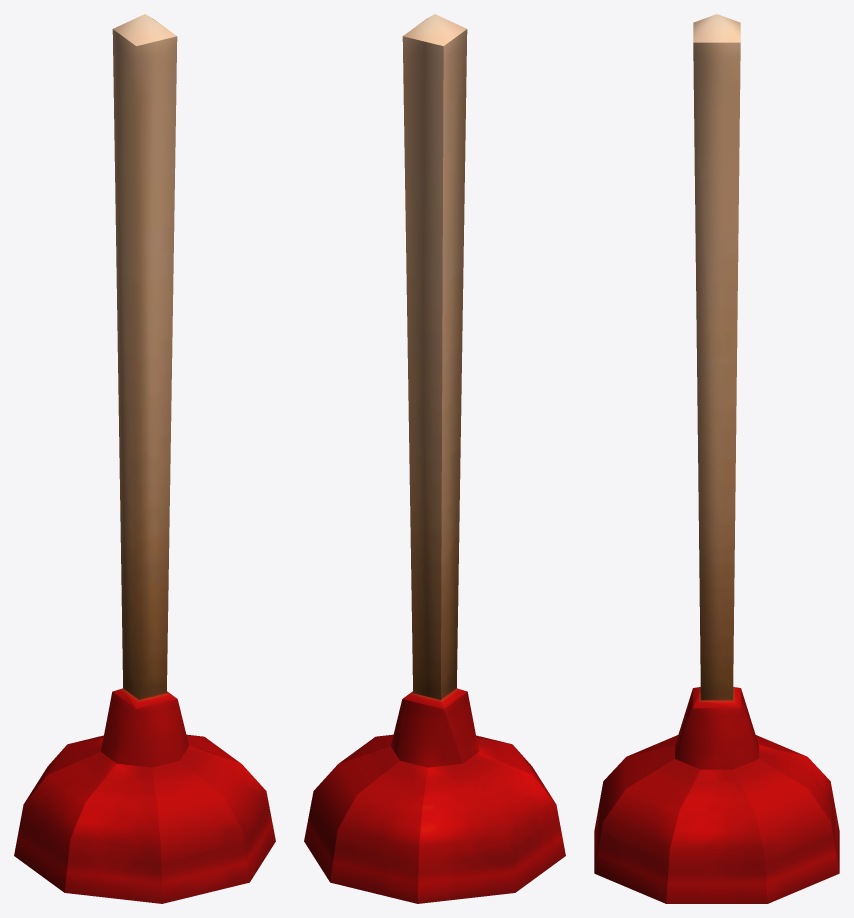
File: desatascador.fbx
The picture shows the model from 3 angles, left to right: view 1: azimuth 30°, elevation 25°; view 2: azimuth 150°, elevation 25°; view 3: azimuth 270°, elevation 25°; orthographic projection.
Visible parts, largest first — view 1: s4studio_mesh_0; view 2: s4studio_mesh_0; view 3: s4studio_mesh_0.
Part boxes in pixels (bbox=[...]): s4studio_mesh_0: bbox=[14, 14, 275, 903]; s4studio_mesh_0: bbox=[304, 14, 565, 903]; s4studio_mesh_0: bbox=[594, 14, 839, 903].
Size of the model in its own units: 13.63 by 51.42 by 13.63.
Materials: 1 (1 with a texture image).
